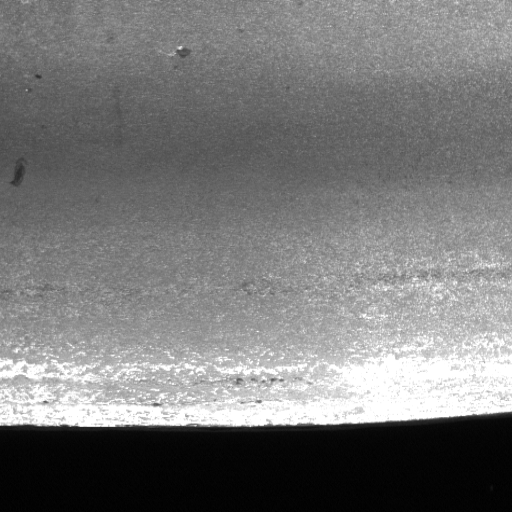aokeng: (174, 43, 190, 62)
